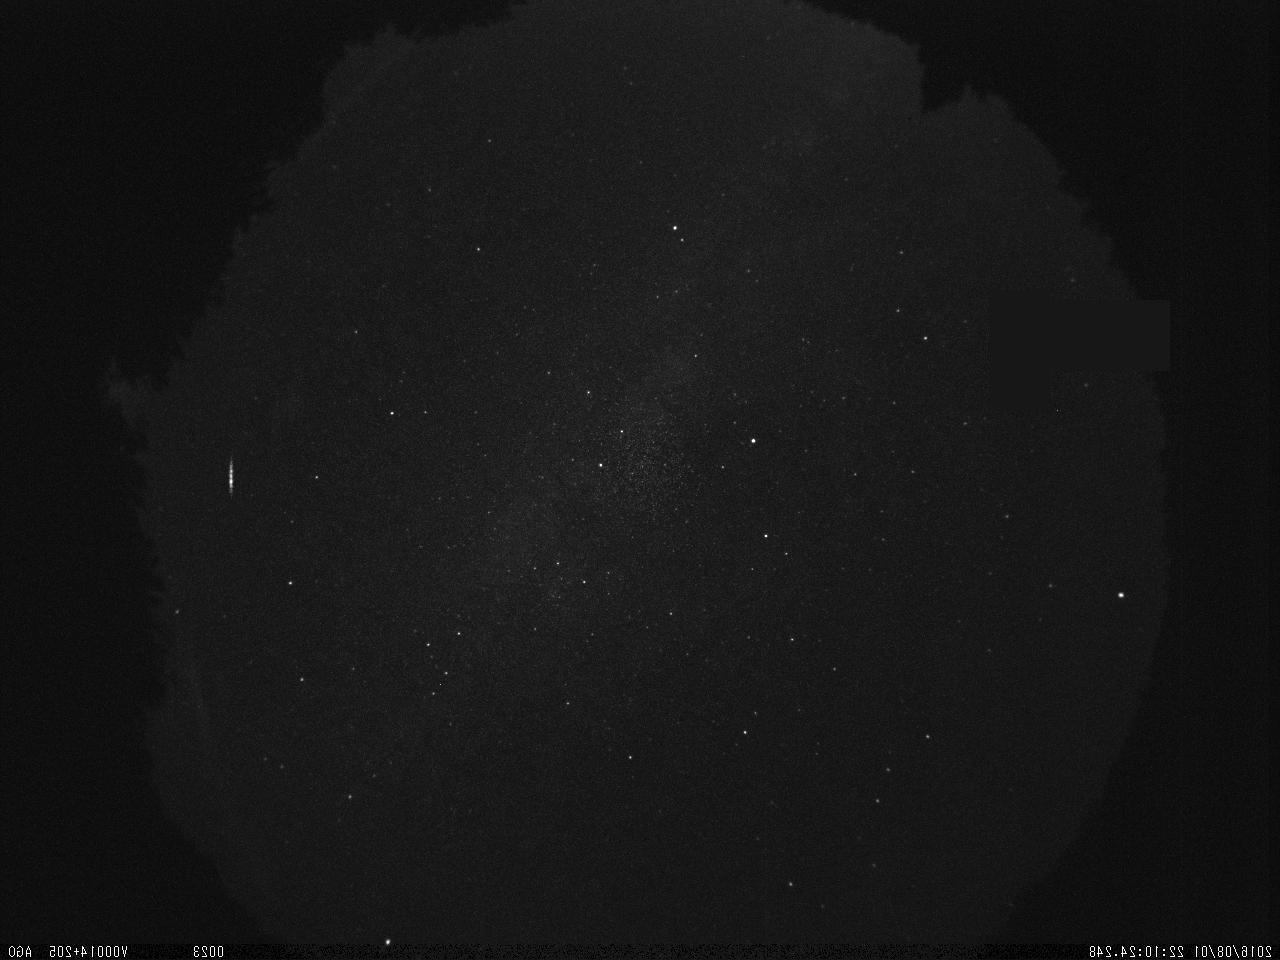meteor: (218, 441, 243, 505)
